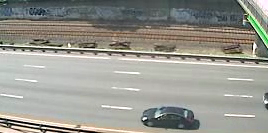car: (140, 105, 197, 131)
